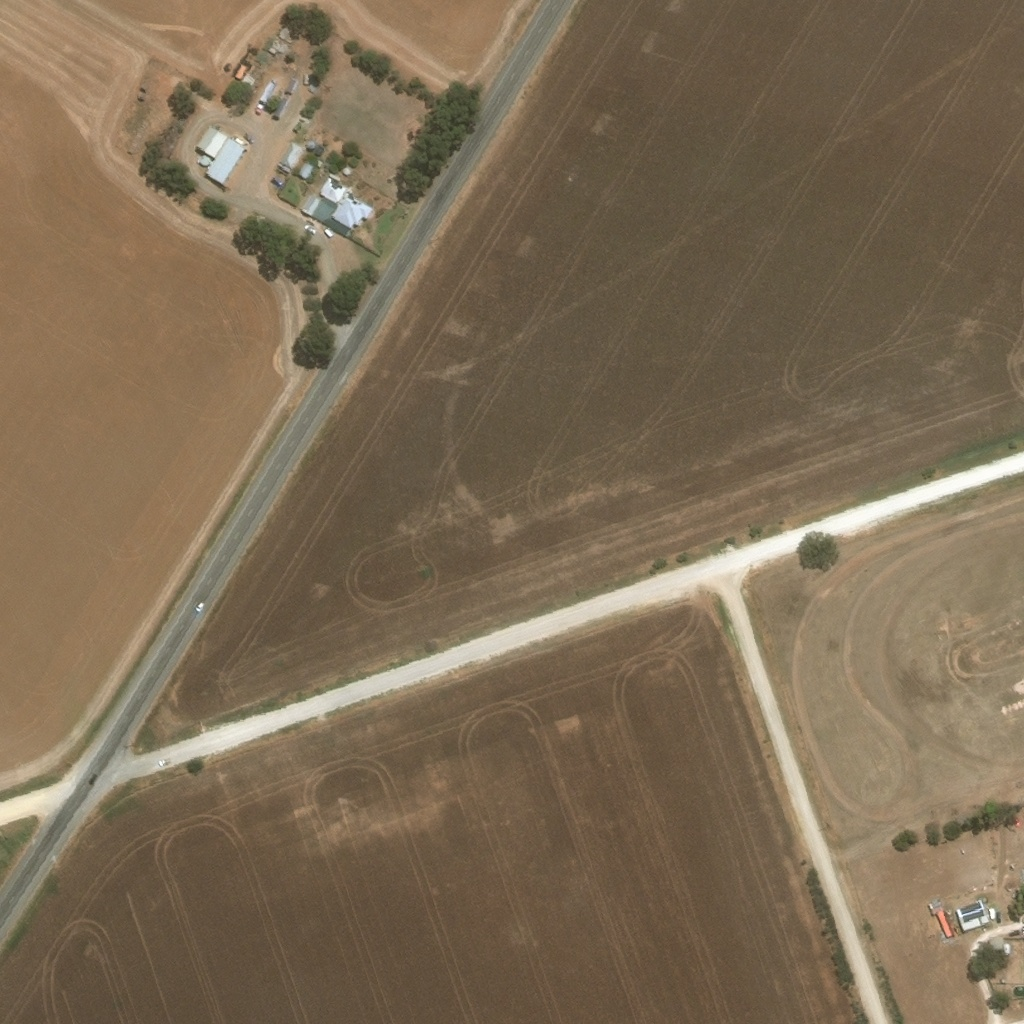0 no-damage: (301, 177, 374, 237), (194, 124, 246, 184), (954, 899, 989, 932), (275, 140, 306, 175), (929, 898, 952, 938), (277, 18, 302, 44), (267, 35, 288, 56), (296, 160, 312, 178), (234, 63, 248, 78), (198, 154, 210, 165), (313, 144, 324, 156), (306, 140, 316, 148), (341, 166, 349, 175), (307, 84, 315, 92), (316, 159, 322, 167)
4 un-classified: (155, 78, 179, 95), (218, 293, 230, 305), (230, 26, 242, 38)
